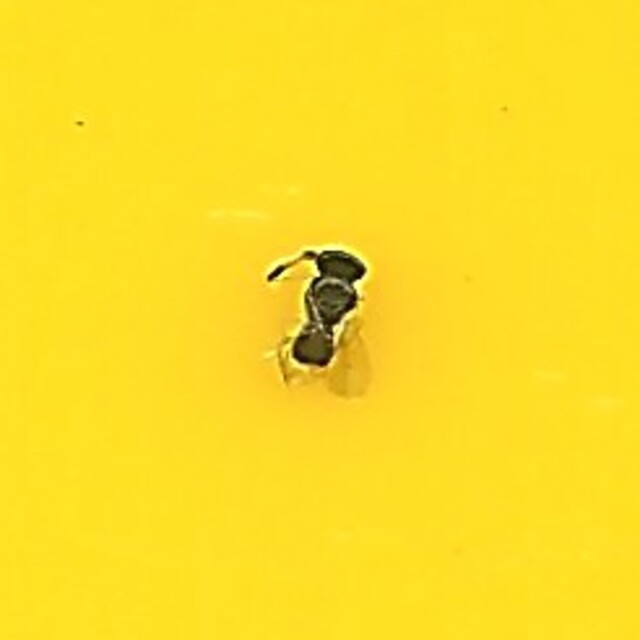Hymenoptera: (260, 239, 380, 401)
